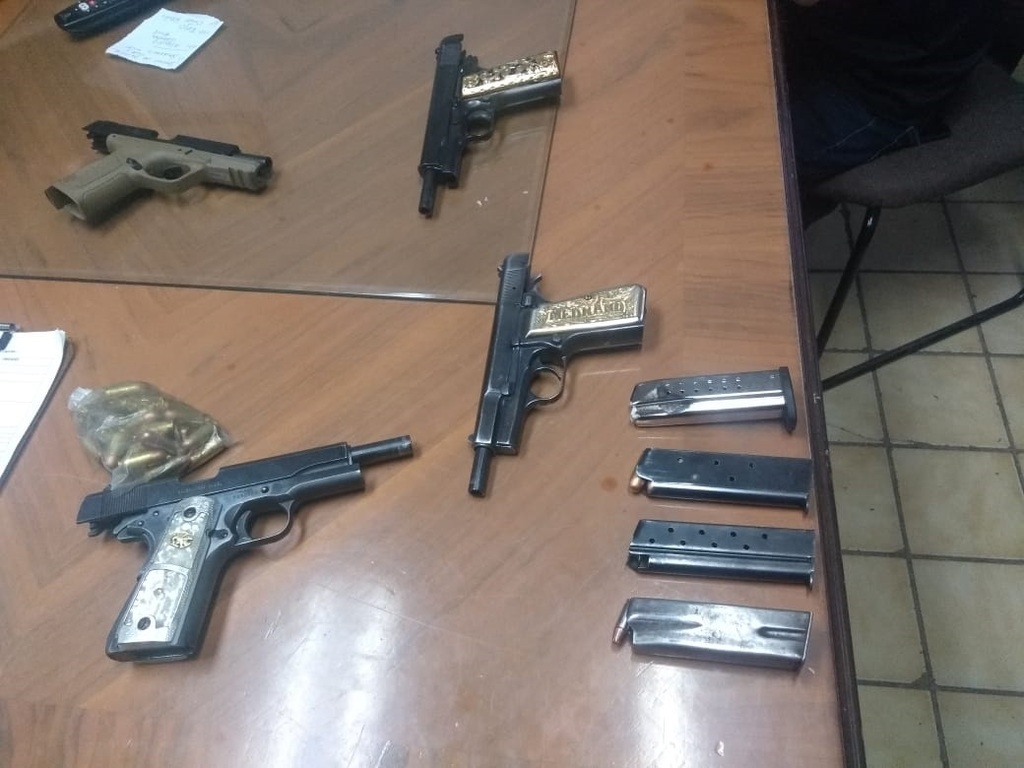Arma Real: (58, 432, 413, 671), (462, 251, 646, 497), (411, 29, 568, 234)
